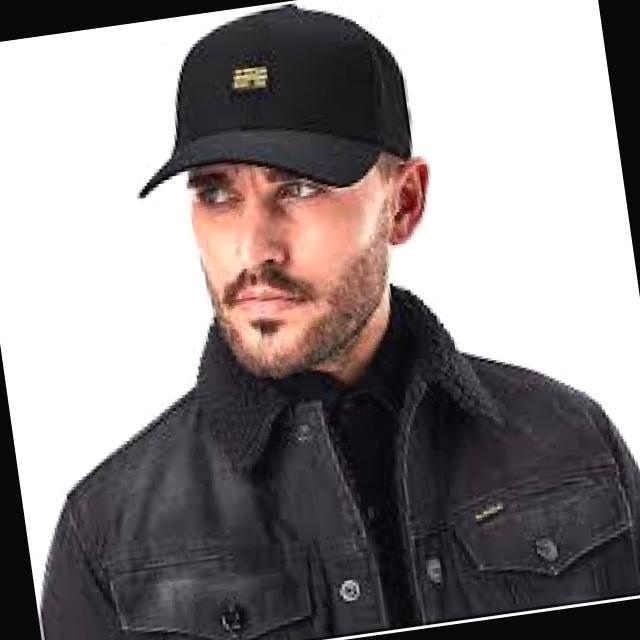cap: (87, 0, 448, 258)
